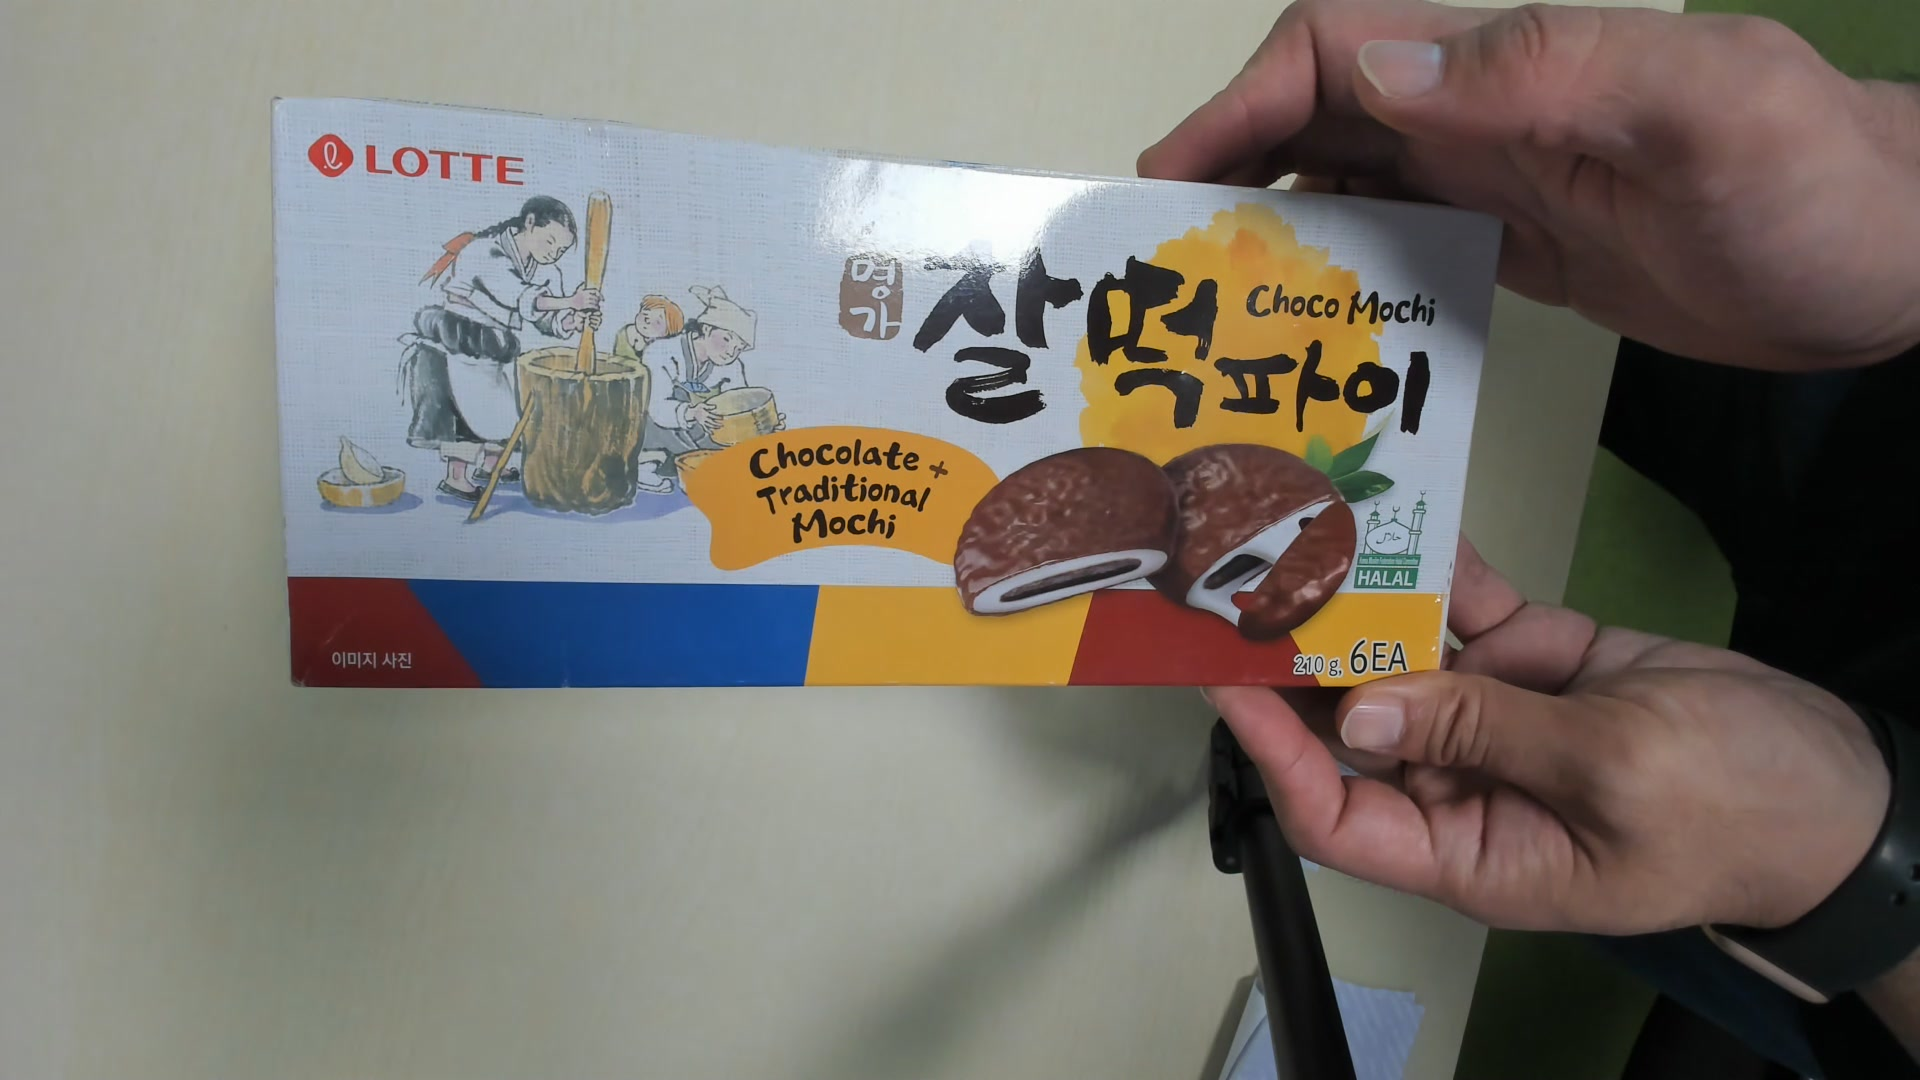SweetsChocolatesOthers_200-299g_NonHalal_Nonhealthy: (258, 103, 1505, 713)
